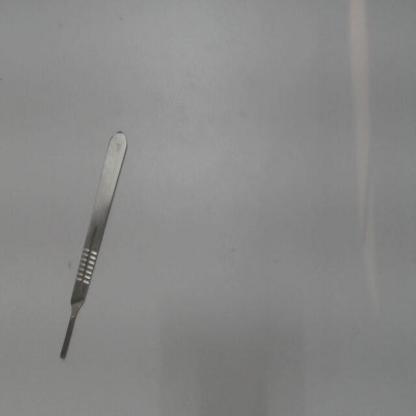No.4 BP Handle: (50, 117, 140, 367)
